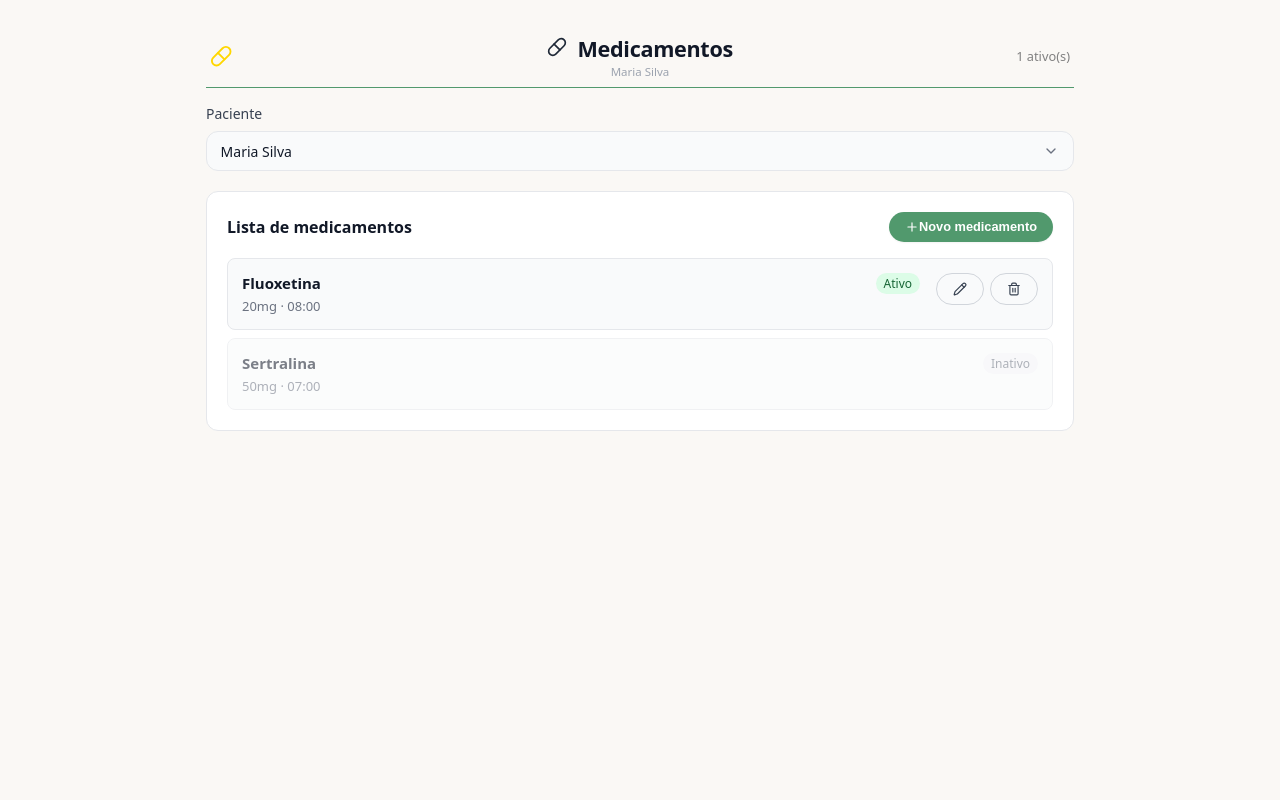
it: MedicamentosProfissional › valida campos obrigatórios antes de submeter
The width and height of the screenshot is (1280, 800).
Click the button "Novo medicamento" at (971, 227), box [889,212,1053,242]
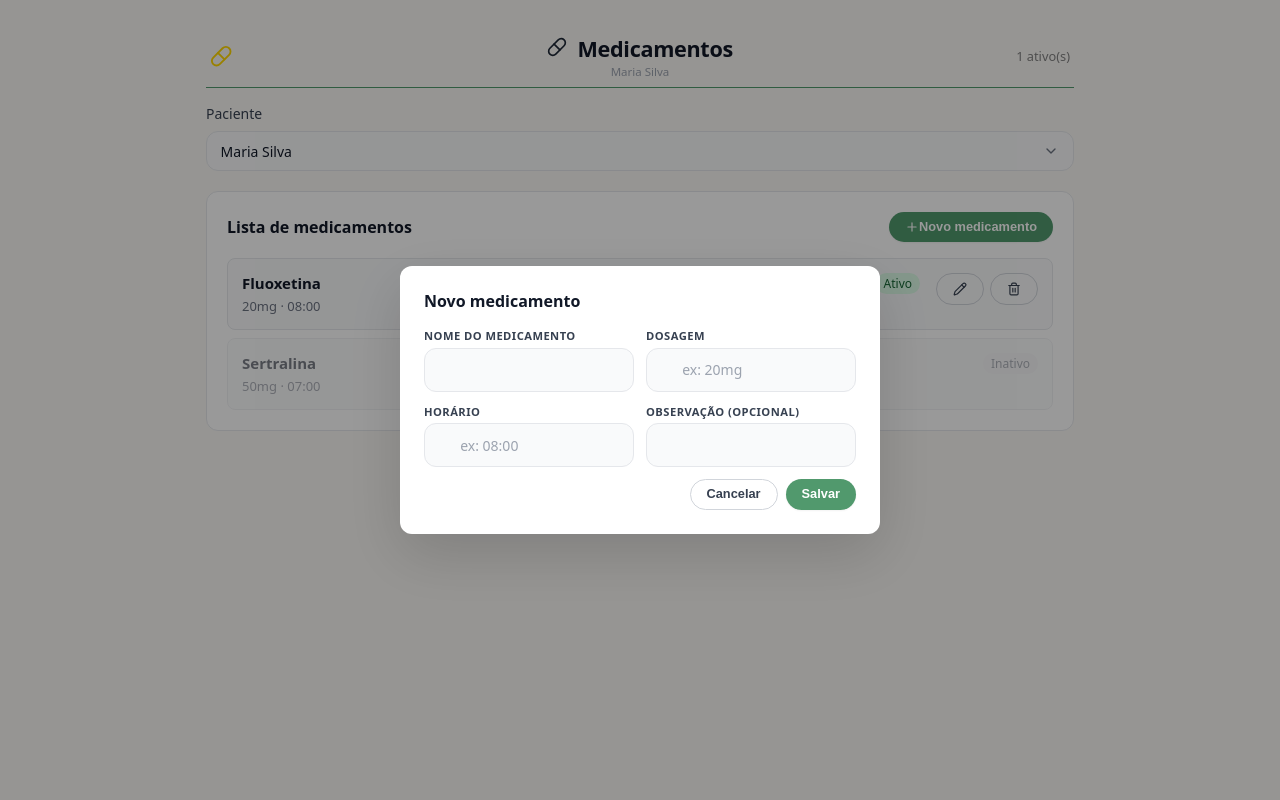
Submit the form, box [424,328,856,510]
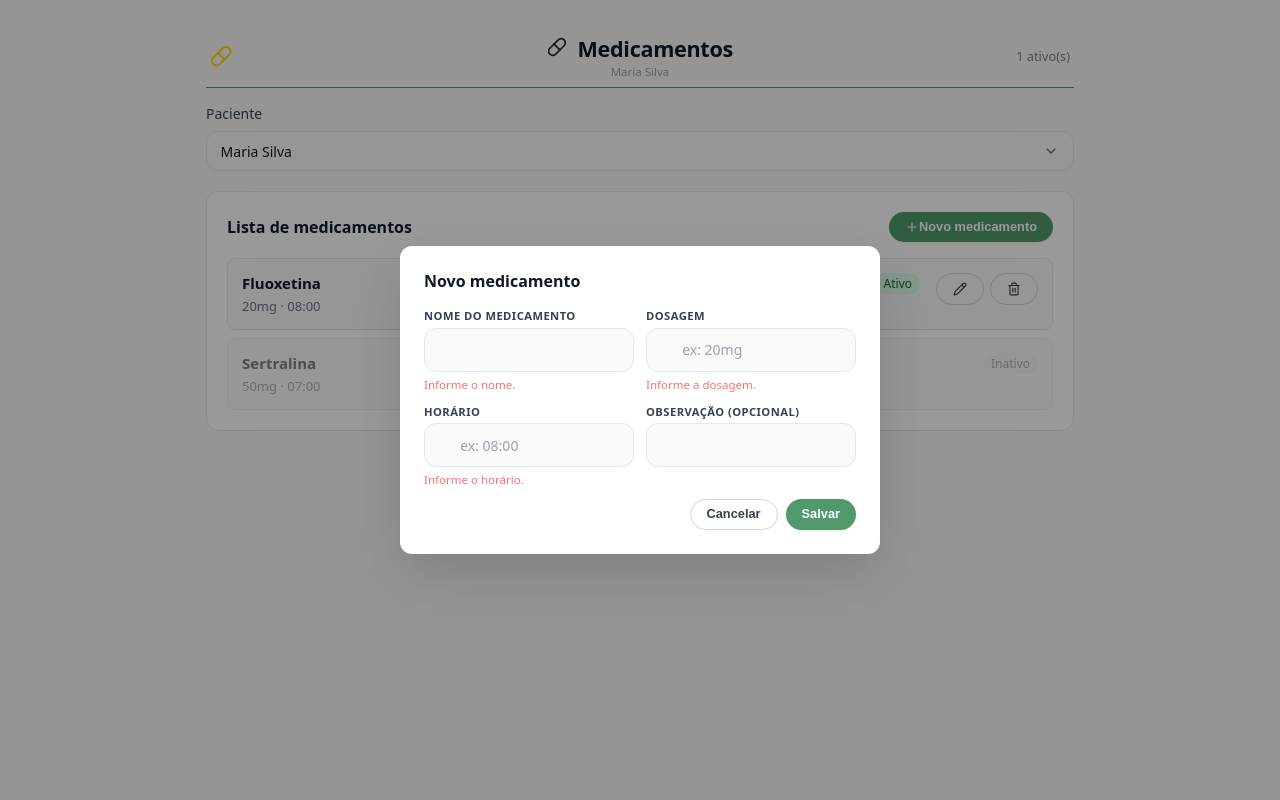
Check: the text "Informe o nome." is shown, box [424,377,515,392]
Check: the text "Informe a dosagem." is shown, box [646,377,756,392]
Check: the text "Informe o horário." is shown, box [424,472,524,487]
